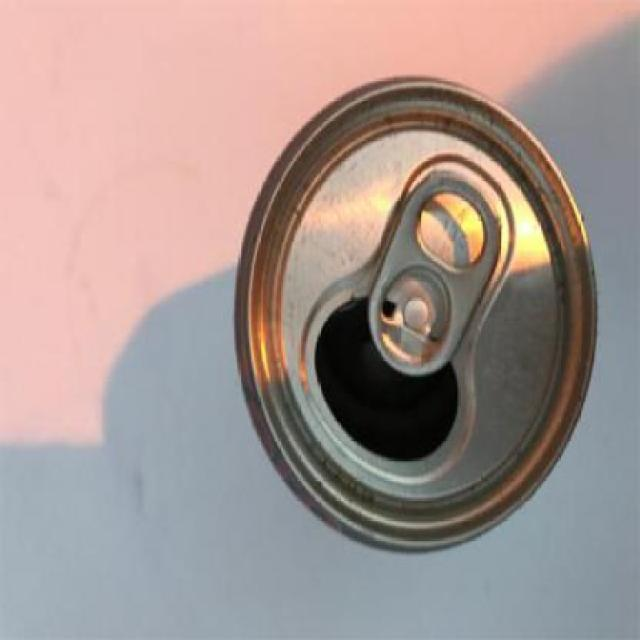Metal: (234, 74, 599, 554)
